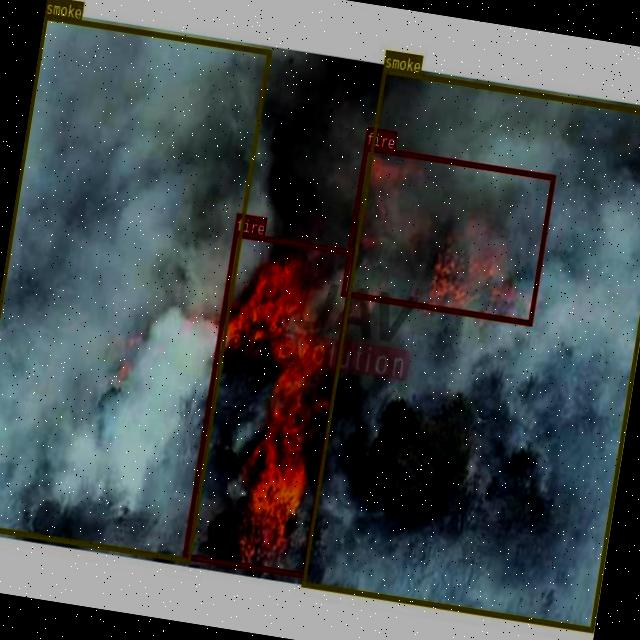fire: (182, 232, 356, 576), (341, 146, 555, 324)
smoke: (301, 66, 640, 631), (0, 13, 271, 562)
